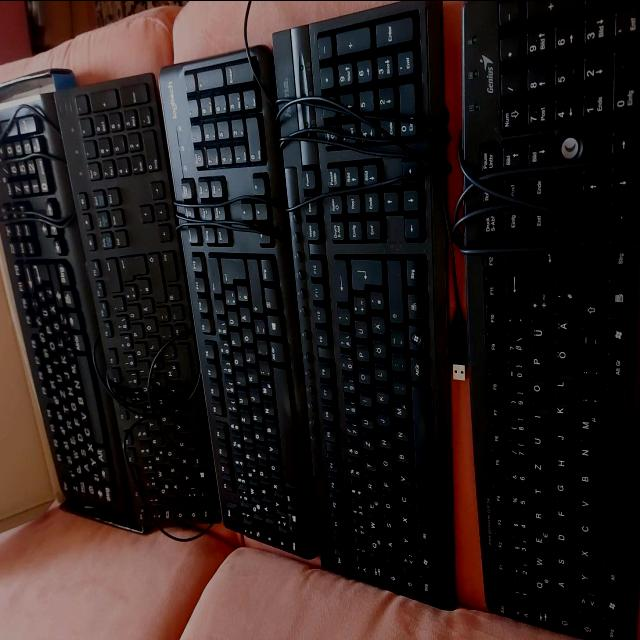keyboard: (455, 0, 640, 640), (270, 0, 458, 614), (157, 35, 321, 569), (51, 69, 224, 530), (0, 85, 137, 528)
